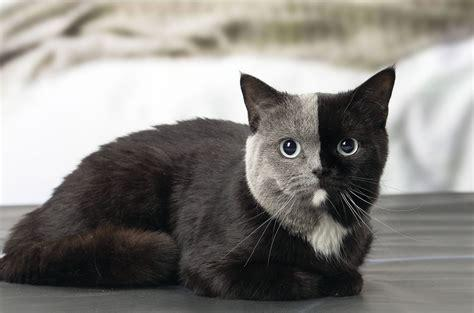cat: (1, 65, 395, 301)
